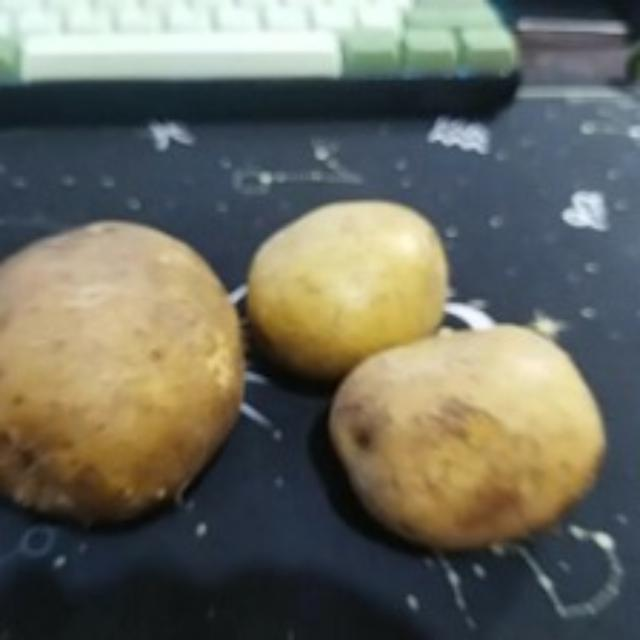Damaged potato: (3, 213, 253, 525), (324, 314, 610, 552)
Potato: (242, 199, 450, 381)
